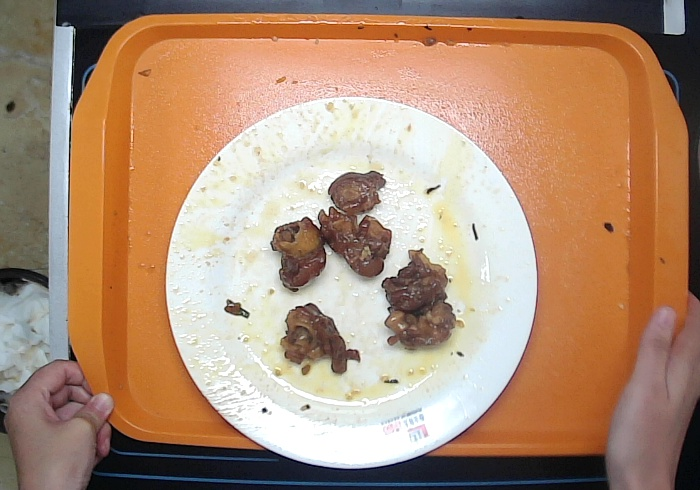ZNLD-Da_Yuan_Pan: (162, 93, 538, 466)
